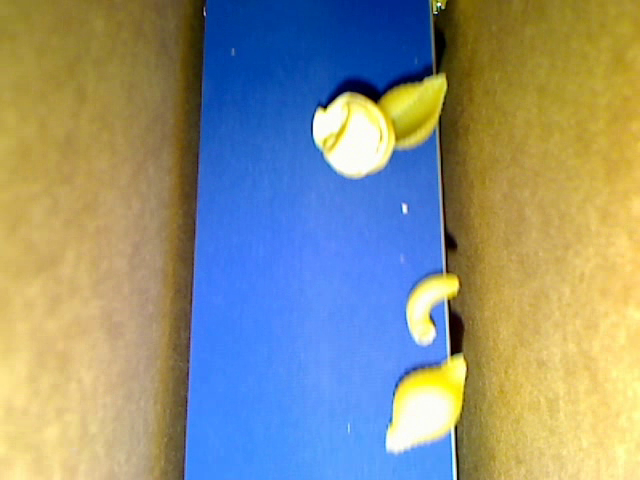elbow: (404, 273, 460, 346)
shell: (384, 352, 468, 454), (377, 71, 447, 151)
tortellini: (312, 91, 396, 180)
